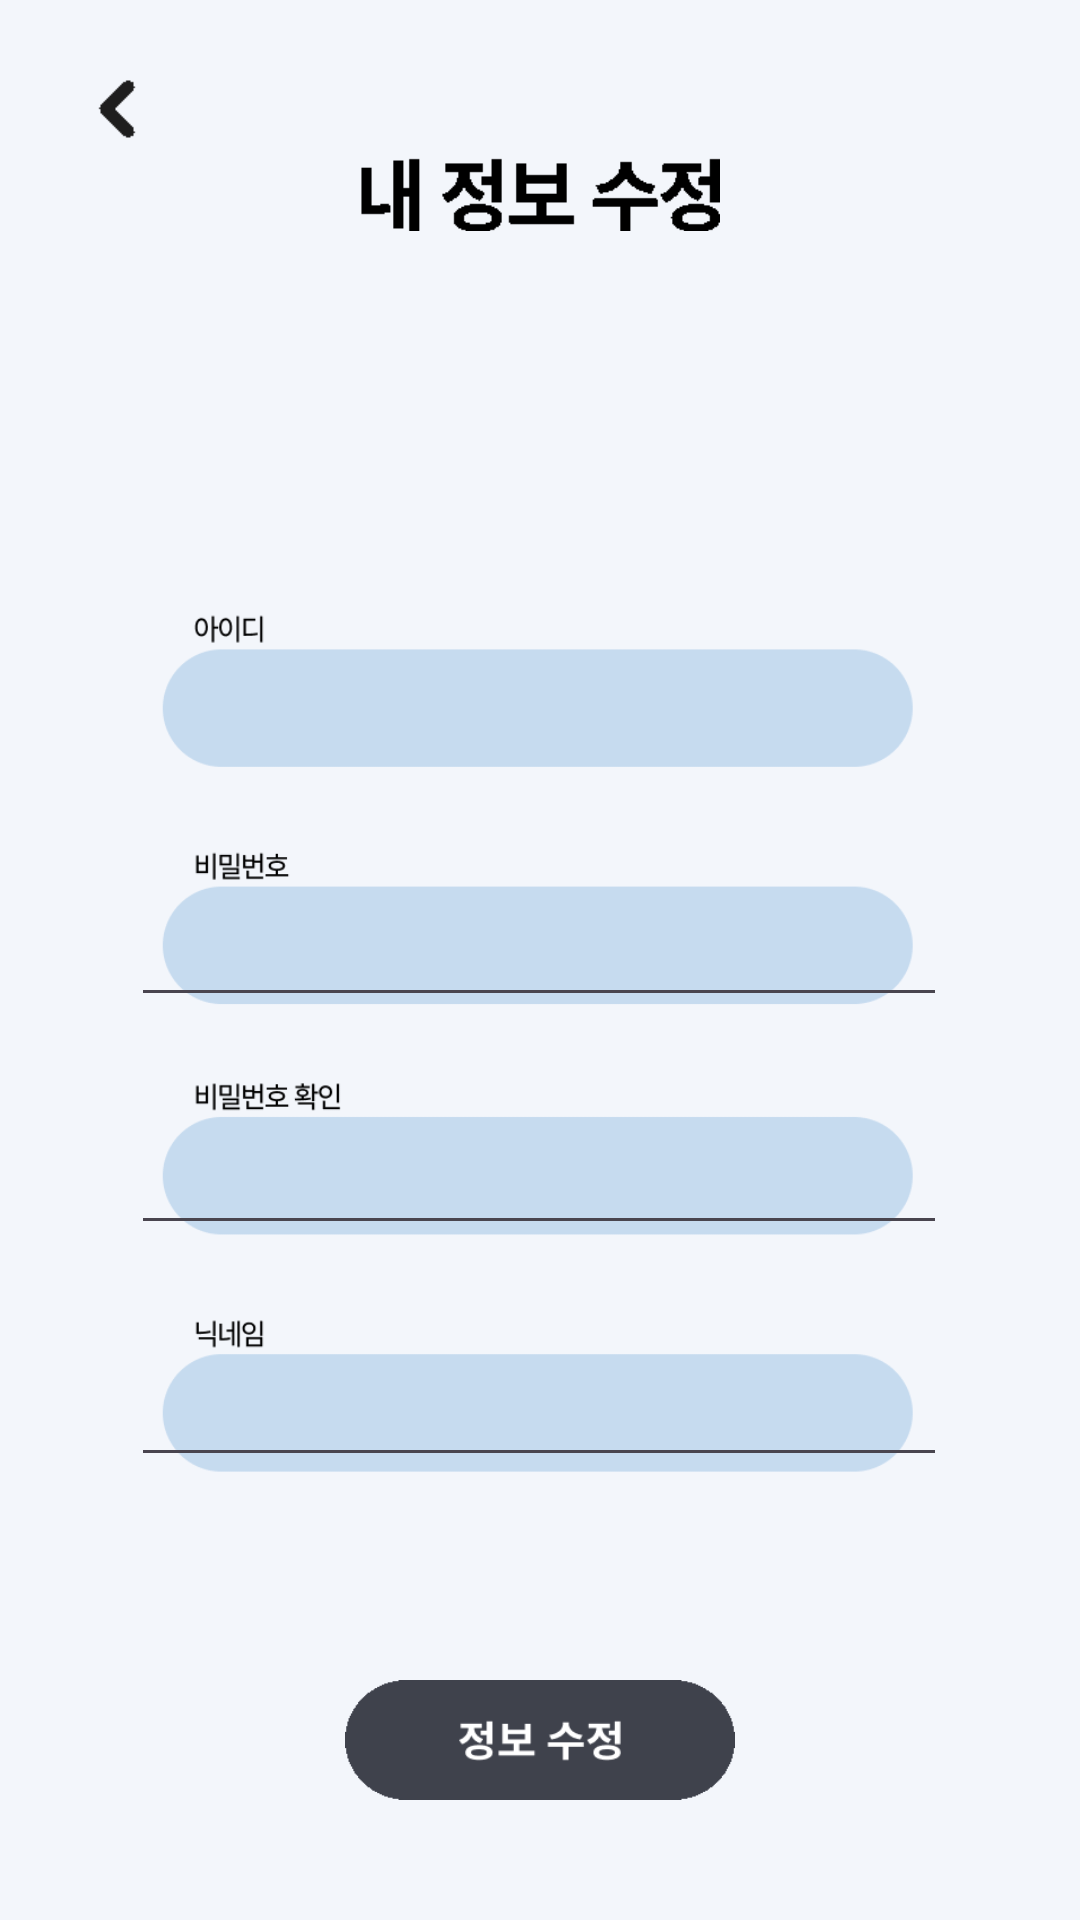

Named icons in this screenshot (1080 × 1920) and their bounding boxes, (x1, y1, x2, y2):
blank arrow left: (98, 80, 136, 138)
